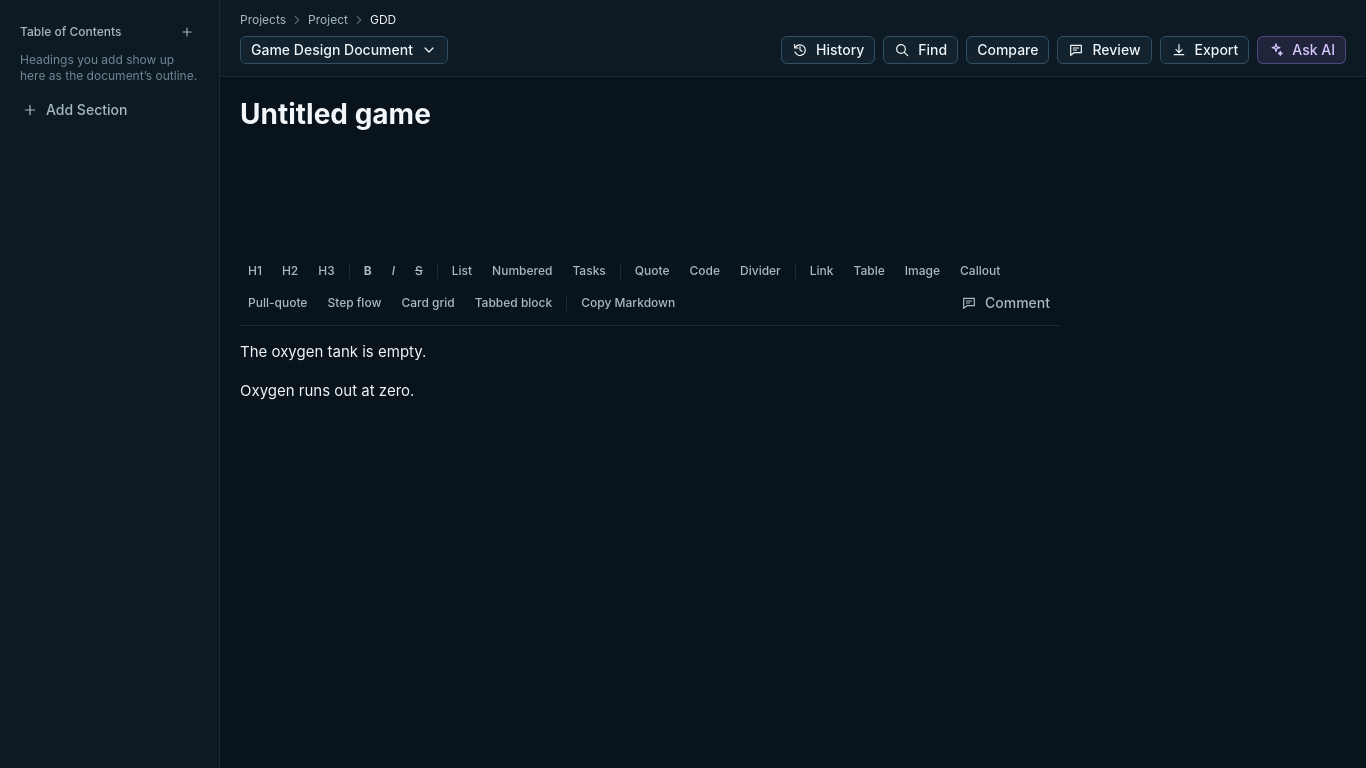
it: GddWorkspace — find in document (#191) › counts matches, steps through them, and reports none for a query the document lacks
Click the button "Find": [921, 50] box [883, 36, 958, 64]
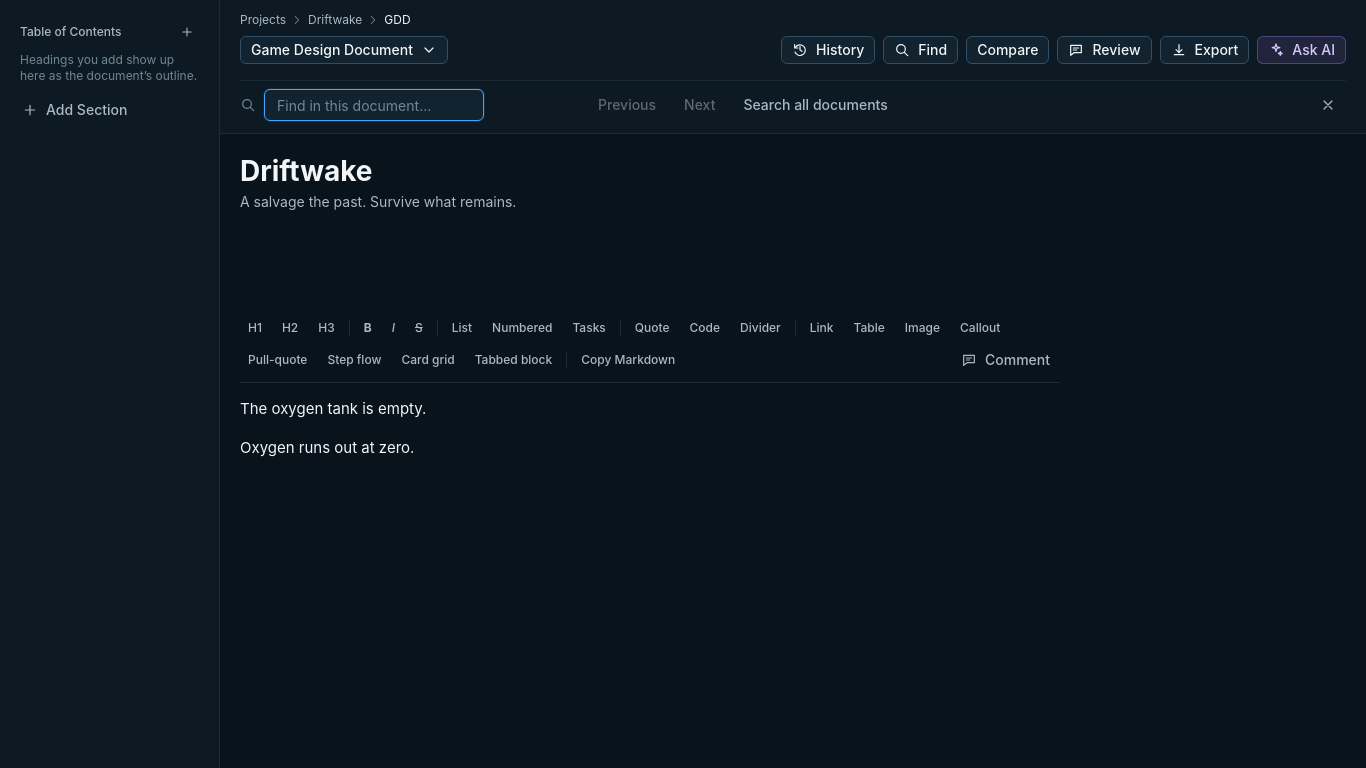
In the field labelled "Find in this document": [374, 105] box [264, 89, 484, 121], type "oxygen"
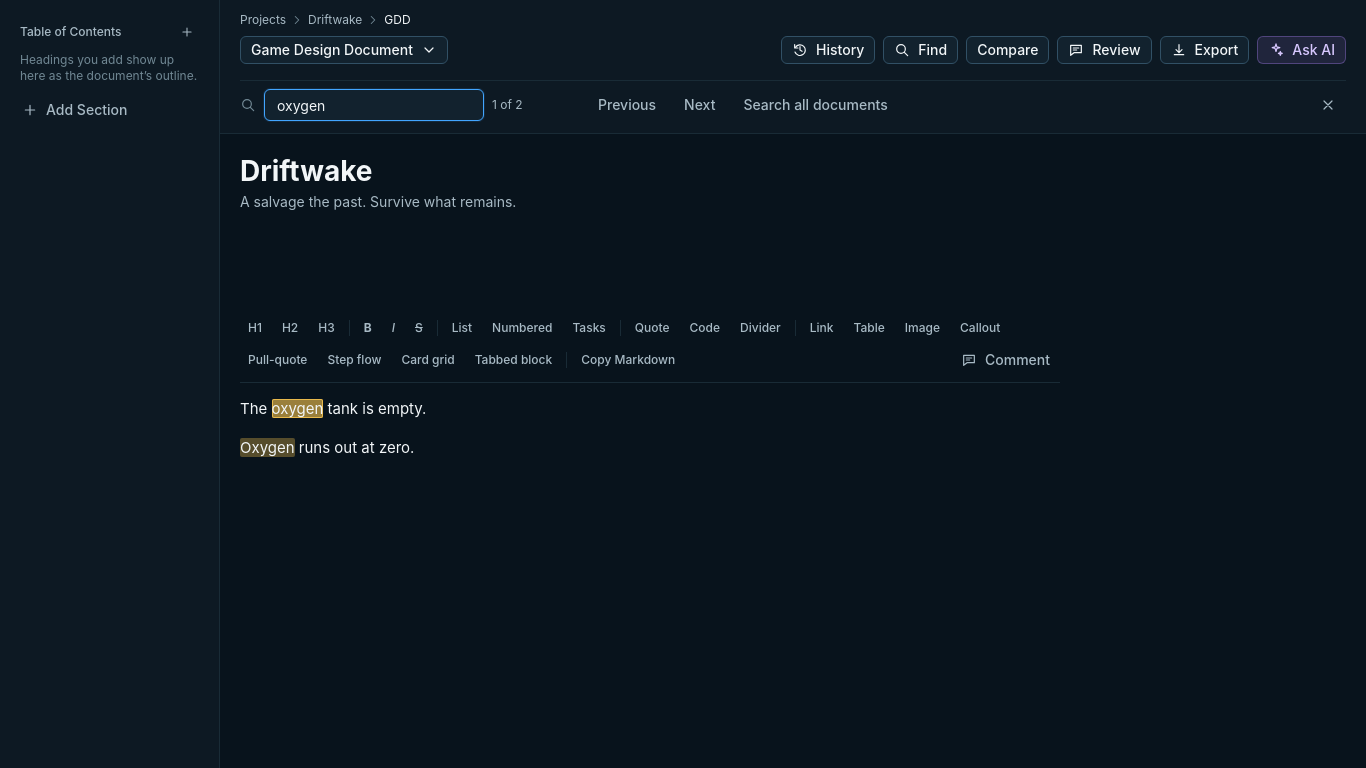
Result: the text "1 of 2" is shown at [492, 97, 523, 112]
Click the button "Next": [700, 105] box [674, 91, 725, 119]
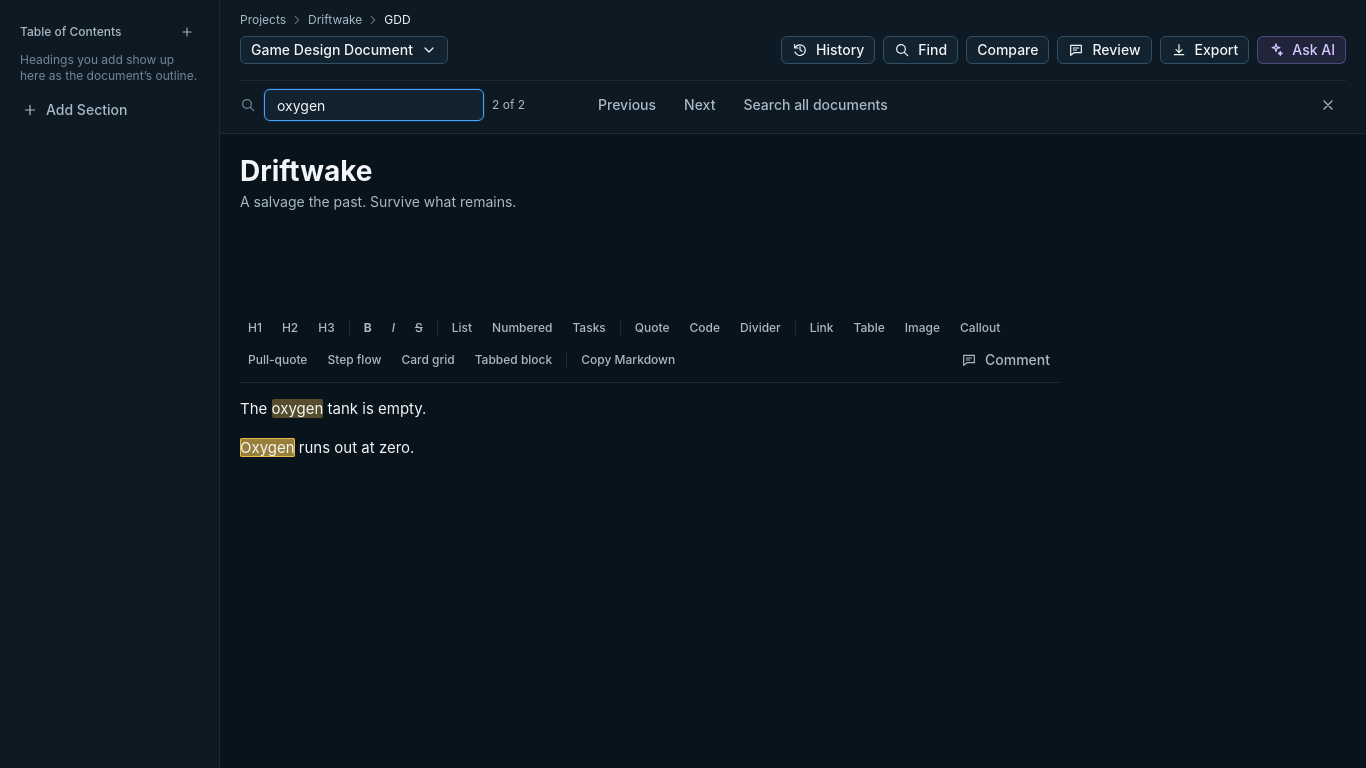
Result: the text "2 of 2" is shown at [492, 97, 525, 112]
Replace the text in the field named "Find in this document" with "dragon": [374, 105] box [264, 89, 484, 121]
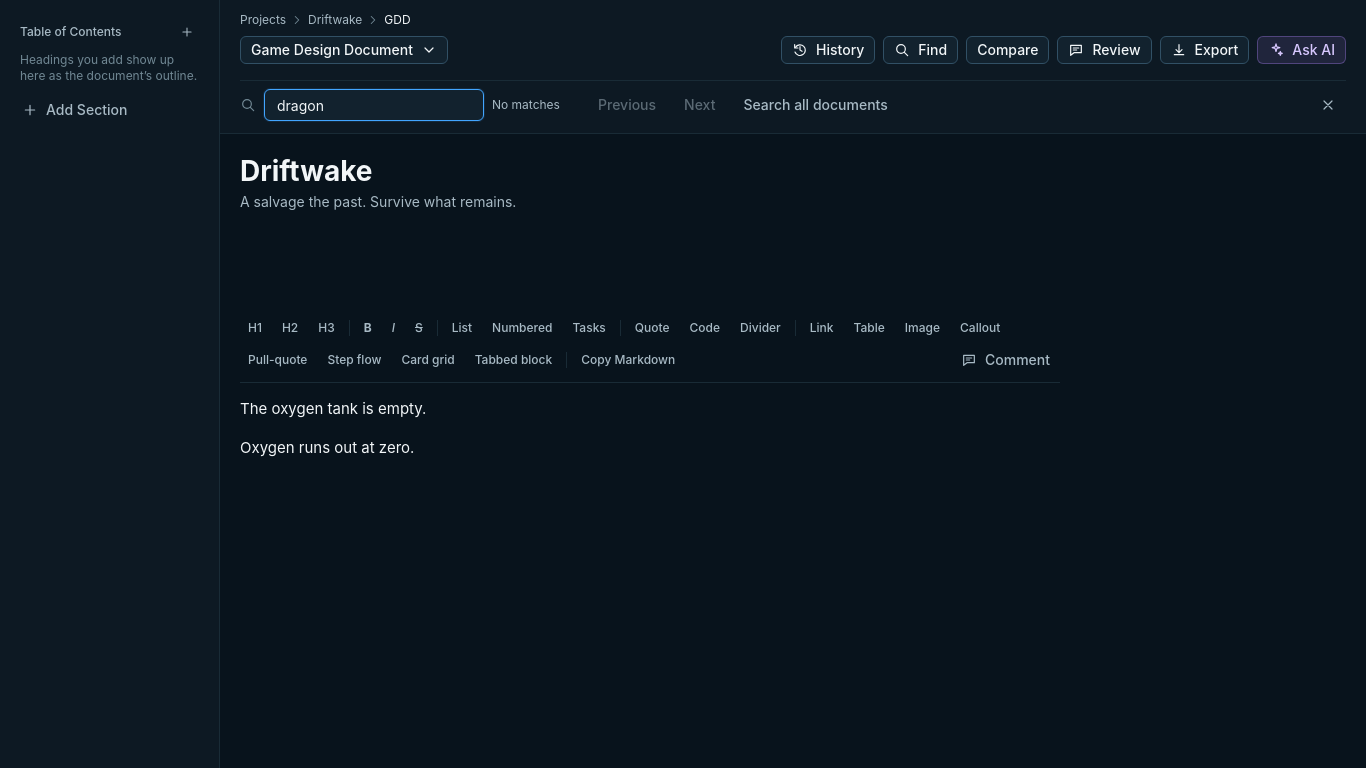
Result: the text "No matches" is shown at [492, 97, 560, 112]
